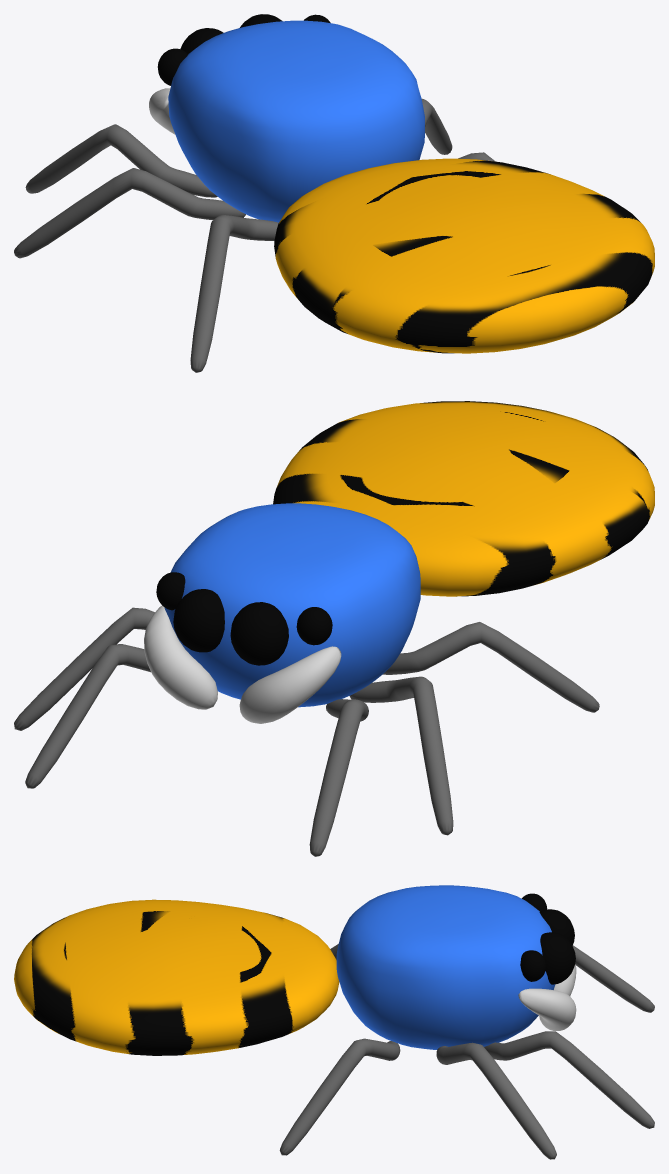
Rendered from Spider2.glb.
The picture shows the model from 3 angles, top to bottom: view 1: azimuth 30°, elevation 25°; view 2: azimuth 150°, elevation 25°; view 3: azimuth 270°, elevation 25°; orthographic projection. The views are drawn at different scales.
Visible parts, largest first — view 1: Butt, Head, Leg.003, Leg.005, Leg.001, Leg.002, Pincer.001, Eye.002, Eye; view 2: Butt, Head, Leg.005, Leg.003, Pincer.001, Pincer, Leg, Leg.001, Leg.002, Eye, Eye.001, Eye.002 (+1 smaller); view 3: Butt, Head, Leg, Leg.004, Leg.002, Pincer, Leg.001, Eye.001, Eye.003, Eye.
Boxes of the visible parts, left/top/right/bottom form: Butt: left=274, top=158, right=654, bottom=353; Head: left=168, top=20, right=424, bottom=222; Leg.003: left=14, top=168, right=245, bottom=258; Leg.005: left=190, top=215, right=278, bottom=372; Leg.001: left=25, top=124, right=217, bottom=197; Leg.002: left=422, top=98, right=452, bottom=154; Pincer.001: left=149, top=88, right=175, bottom=134; Eye.002: left=157, top=48, right=188, bottom=85; Eye: left=180, top=28, right=223, bottom=53; Butt: left=273, top=401, right=654, bottom=596; Head: left=164, top=503, right=420, bottom=707; Leg.005: left=383, top=622, right=599, bottom=712; Leg.003: left=349, top=676, right=453, bottom=835; Pincer.001: left=239, top=646, right=341, bottom=723; Pincer: left=144, top=605, right=217, bottom=709; Leg: left=25, top=644, right=150, bottom=788; Leg.001: left=309, top=699, right=368, bottom=856; Leg.002: left=14, top=607, right=154, bottom=730; Eye: left=230, top=602, right=288, bottom=665; Eye.001: left=173, top=589, right=224, bottom=652; Eye.002: left=296, top=607, right=332, bottom=645; Butt: left=14, top=899, right=339, bottom=1055; Head: left=336, top=885, right=555, bottom=1049; Leg: left=484, top=1031, right=654, bottom=1128; Leg.004: left=279, top=1038, right=400, bottom=1155; Leg.002: left=436, top=1042, right=556, bottom=1159; Pincer: left=518, top=988, right=576, bottom=1030; Leg.001: left=572, top=945, right=654, bottom=1012; Eye.001: left=540, top=932, right=575, bottom=984; Eye.003: left=520, top=950, right=546, bottom=981; Eye: left=539, top=909, right=574, bottom=945.
Bounding box in the file's own units: 0.3311 × 0.1445 × 0.5081.
5 materials, 1 textured.
